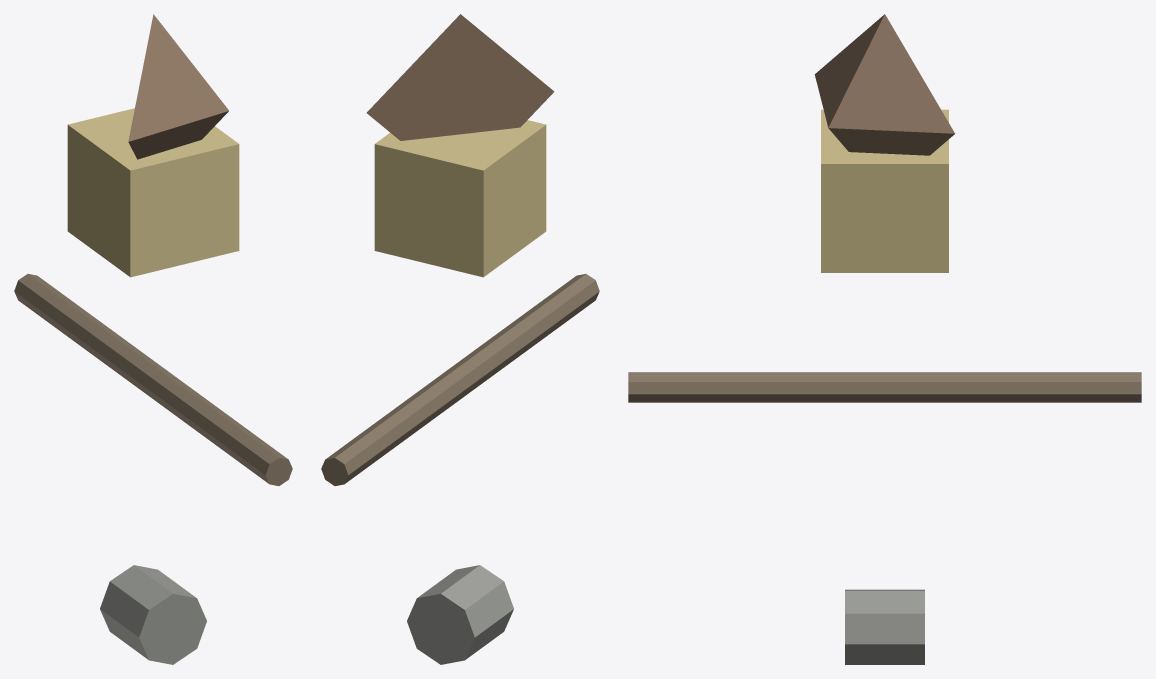
The model's file is lantern_post.glb.
3 renders of one model, left to right at view 1: azimuth 30°, elevation 25°; view 2: azimuth 150°, elevation 25°; view 3: azimuth 270°, elevation 25°, orthographic. The views are drawn at different scales.
Visible parts, largest first — view 1: lantern, pole, cap, base; view 2: lantern, cap, pole, base; view 3: lantern, pole, cap, base.
Boxes of the visible parts, box(x1,y1,x2,y2) form: lantern: box(67, 108, 239, 277); pole: box(14, 274, 292, 485); cap: box(128, 14, 228, 159); base: box(100, 565, 206, 664); lantern: box(374, 120, 546, 277); cap: box(366, 14, 554, 140); pole: box(321, 274, 599, 485); base: box(407, 565, 513, 664); lantern: box(821, 109, 948, 272); pole: box(628, 372, 1141, 402); cap: box(814, 14, 954, 155); base: box(845, 589, 924, 664).
Size of the model in its own units: 0.8768 by 4.47 by 3.2.
